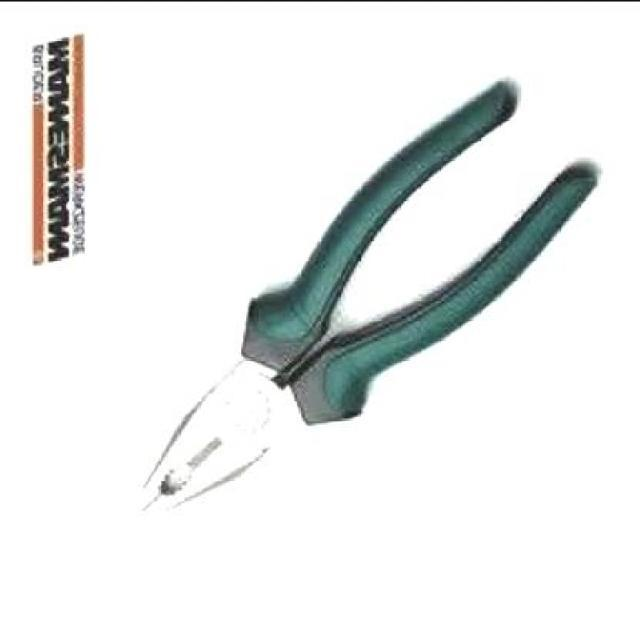pliers: (121, 88, 598, 534)
